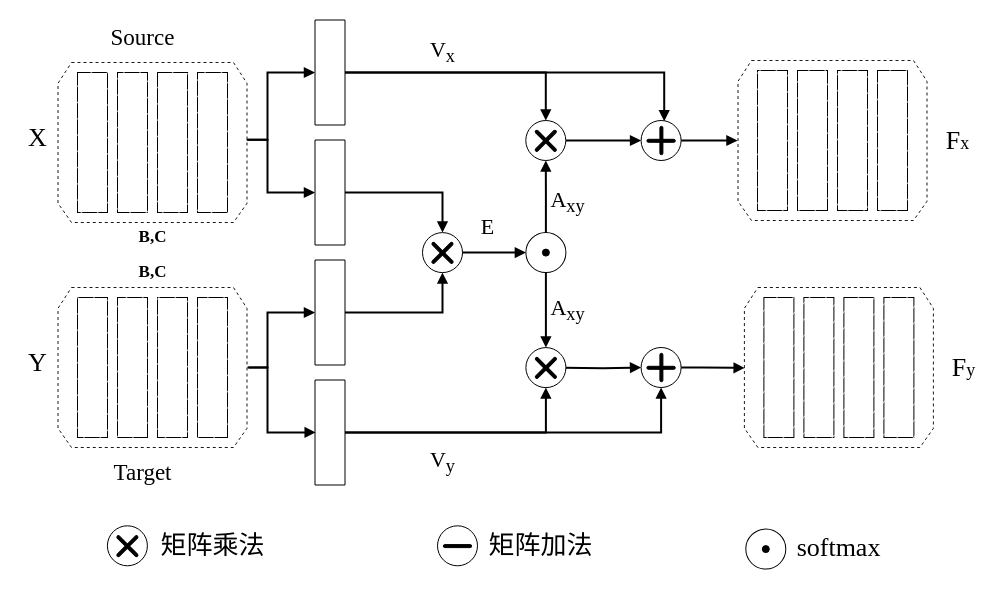
Image size: 1006x595. Some labels were removed from this diagram. Each missing label, with the centre of its shape:
"Ky" goes at point (329, 312).
"Q x" goes at point (329, 192).
